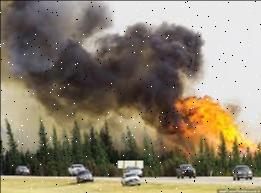fire: (165, 84, 260, 152)
